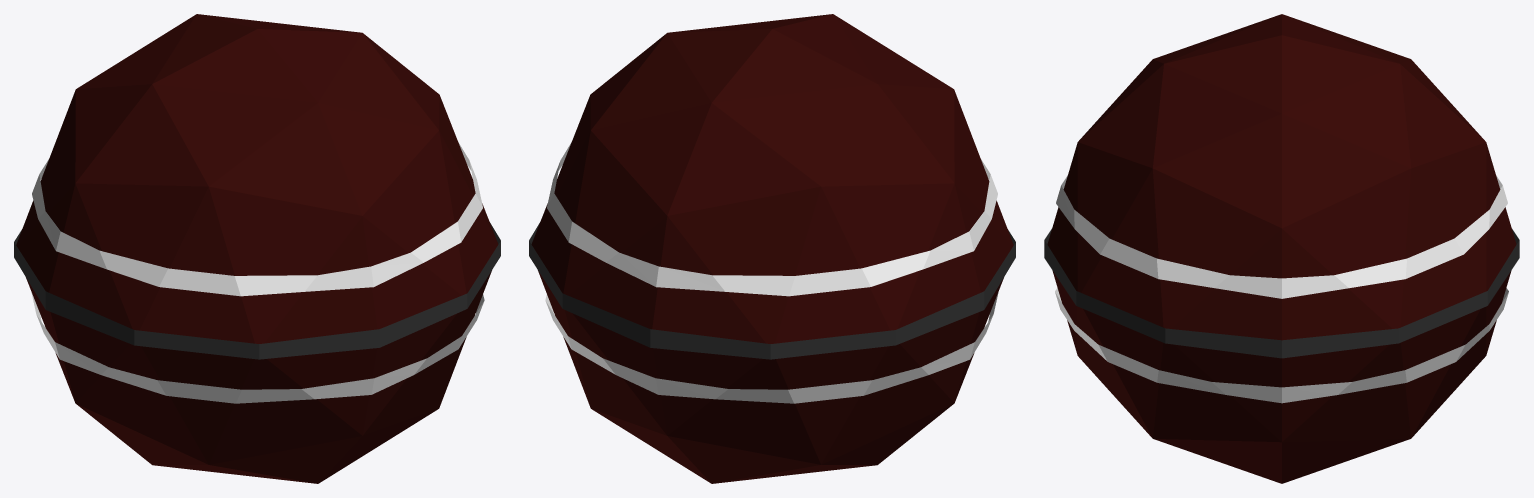
The model's file is CrickietBall.fbx.
3 renders of one model, left to right at view 1: azimuth 30°, elevation 25°; view 2: azimuth 150°, elevation 25°; view 3: azimuth 270°, elevation 25°, orthographic. The views are drawn at different scales.
Visible parts, largest first — view 1: CrickietBall; view 2: CrickietBall; view 3: CrickietBall.
Boxes of the visible parts, <box> form: CrickietBall: <box>14,14,500,483</box>; CrickietBall: <box>529,14,1015,483</box>; CrickietBall: <box>1044,14,1519,483</box>.
Bounding box in the file's own units: 6.54 × 6.5 × 6.54.
